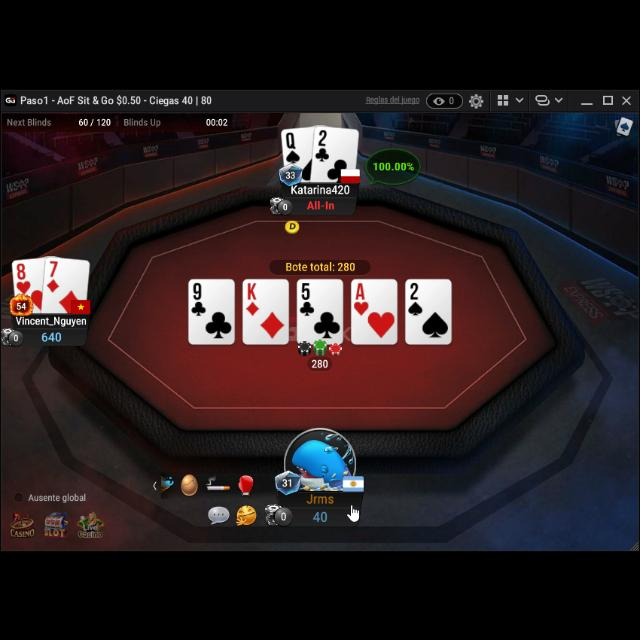2c: (314, 128, 331, 164)
2s: (408, 280, 424, 316)
5c: (299, 280, 315, 318)
7d: (46, 259, 62, 293)
8h: (15, 260, 32, 296)
9c: (190, 280, 207, 316)
Ah: (352, 280, 370, 316)
Kd: (246, 281, 260, 317)
Qs: (284, 130, 302, 164)
all_in_symbol: (305, 198, 335, 210)
dealer: (284, 220, 300, 232)
pot_text: (284, 260, 358, 272)
stack_text: (40, 328, 64, 344), (311, 510, 329, 524)
